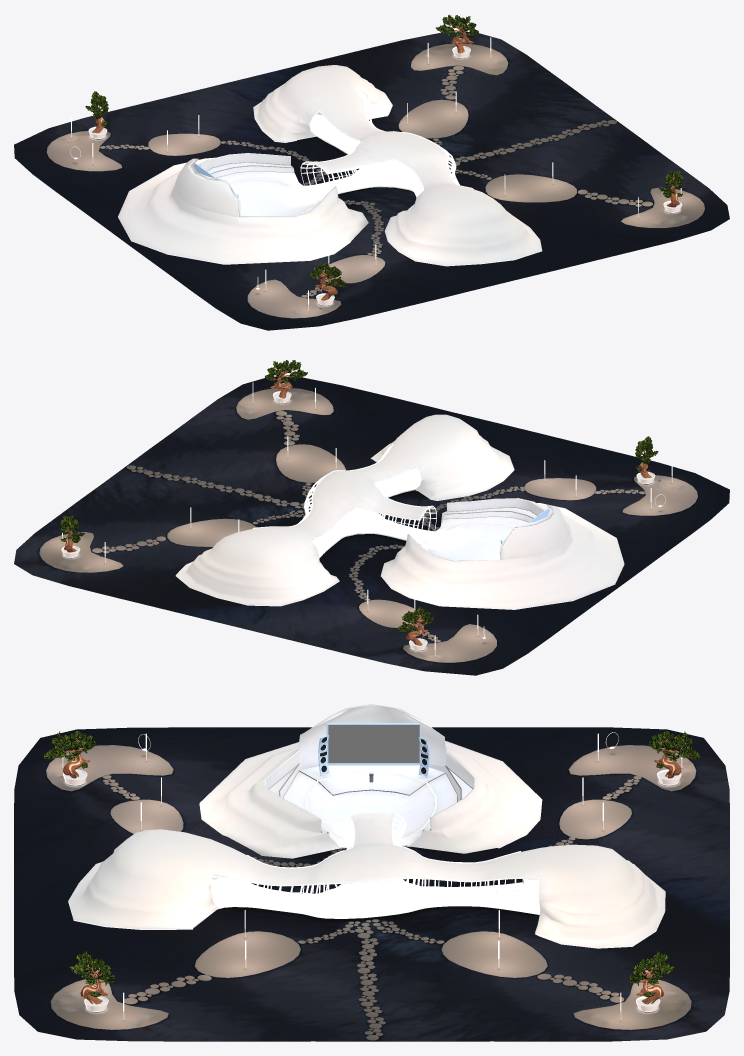
3 views of the same model, one above another, from view 1: azimuth 30°, elevation 25°; view 2: azimuth 150°, elevation 25°; view 3: azimuth 270°, elevation 25° (orthographic). The views are drawn at different scales.
Bounding box in the file's own units: 135 × 13.64 × 130.
Materials: 20 (6 with a texture image).
